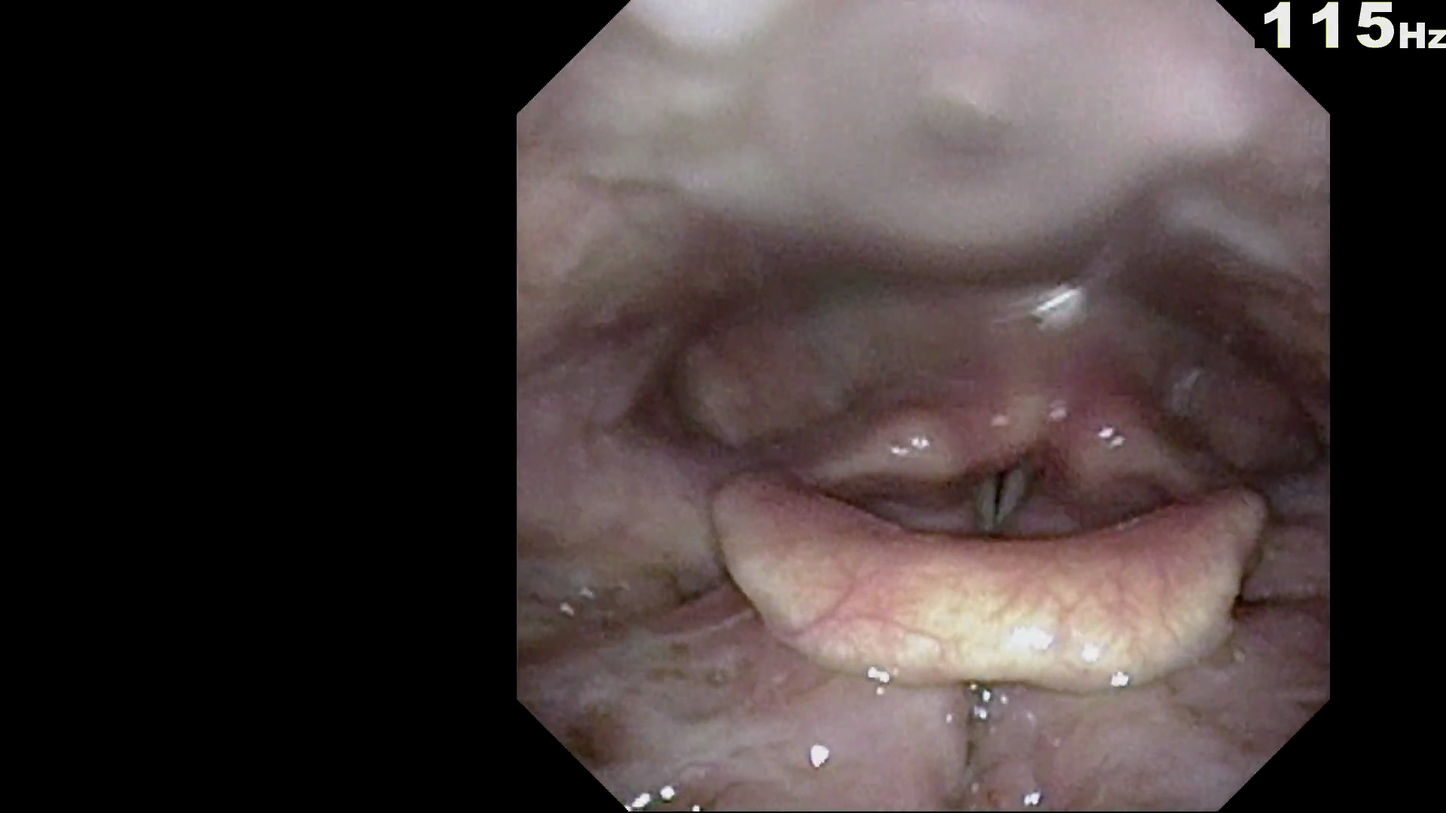epiglottis: (675, 511, 1284, 722)
trachea: (965, 464, 1048, 551)
